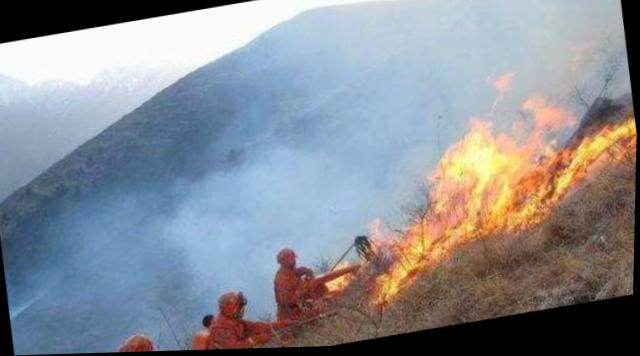fire: (332, 71, 637, 307)
